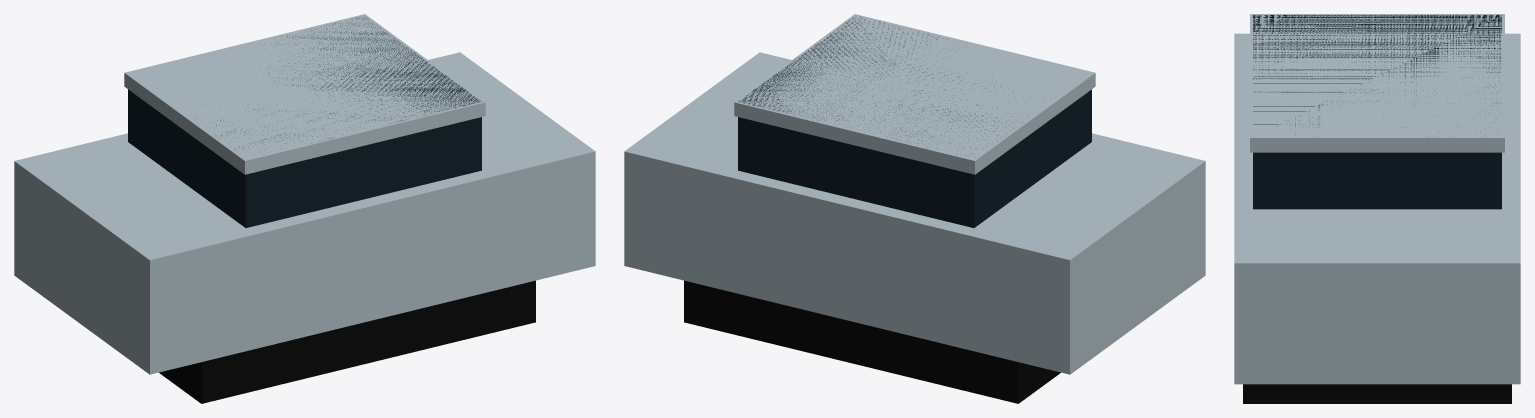
File: kei_wagon.lod2.obj
The picture shows the model from 3 angles, left to right: view 1: azimuth 30°, elevation 25°; view 2: azimuth 150°, elevation 25°; view 3: azimuth 270°, elevation 25°; orthographic projection. The views are drawn at different scales.
Parts seen in each view (by area): view 1: kei_wagon; view 2: kei_wagon; view 3: kei_wagon.
Part boxes in pixels (x1,y1,x2,y2): kei_wagon: [14, 14, 595, 403]; kei_wagon: [624, 14, 1205, 403]; kei_wagon: [1234, 14, 1520, 403].
Size of the model in its own units: 3.51 by 1.72 by 1.85.
